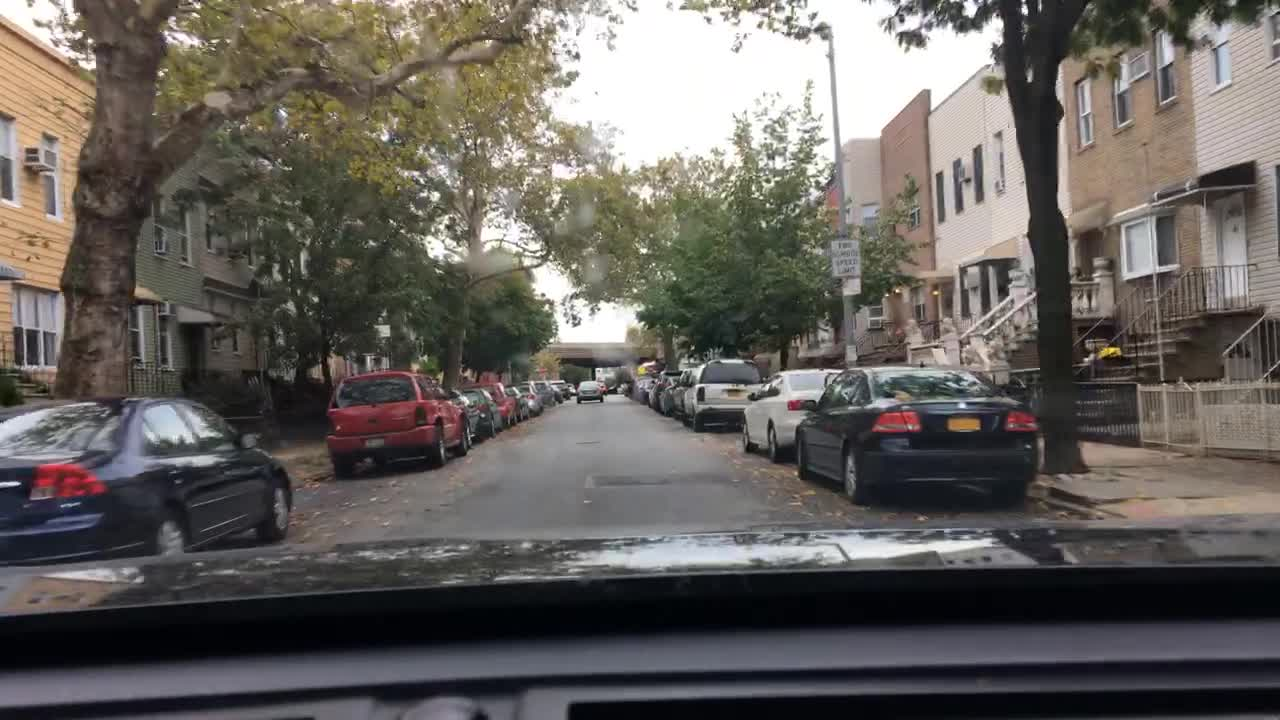car: (0, 395, 291, 567), (793, 364, 1043, 504), (326, 369, 466, 476), (742, 366, 844, 462), (685, 358, 762, 431), (459, 386, 506, 437), (440, 386, 476, 451), (466, 381, 516, 426), (646, 369, 685, 411), (676, 366, 699, 426), (506, 384, 541, 414), (656, 375, 681, 416), (516, 379, 549, 410), (505, 386, 531, 421), (631, 371, 655, 405), (573, 379, 605, 404), (532, 379, 556, 408), (545, 378, 565, 406), (618, 378, 636, 398), (552, 379, 568, 396), (603, 376, 617, 394), (596, 378, 607, 396), (566, 381, 577, 396)
person: (1005, 370, 1040, 419), (1070, 267, 1090, 286), (885, 323, 892, 341)
traffic sign: (829, 239, 860, 275), (840, 277, 862, 298), (842, 343, 857, 363)
